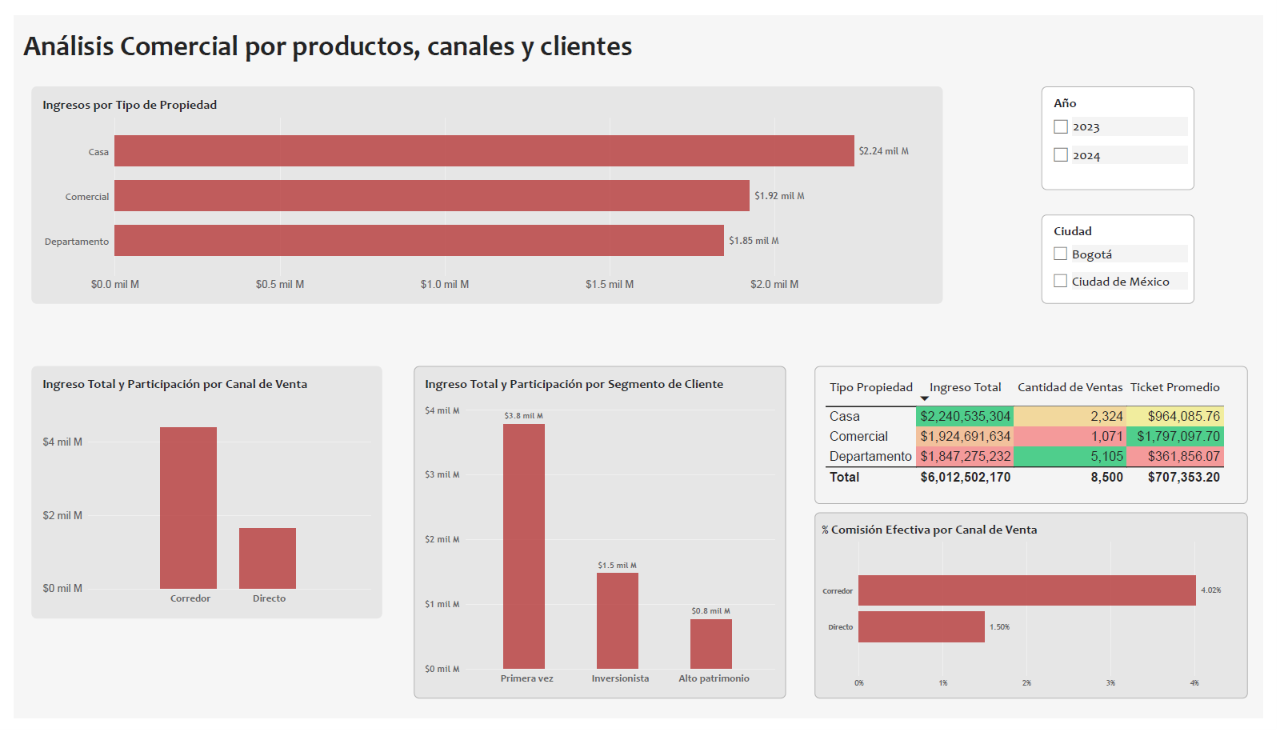

This screenshot's page, from the dashboard's own definition file:
{"tool":"powerbi","page":{"name":"Análisis Comercial","canvas":[1920,1080],"ordinal":1},"visuals":[{"type":"textbox","box":[14.5,19.9,968.2,88.7],"z":0},{"type":"clusteredBarChart","title":"Ingresos por Tipo de Propiedad","fields":{"Category":["dim_propiedades.tipo_propiedad"],"Y":["hecho_ventas_propiedades.Ingreso Total"]},"box":[27.1,108.6,1400.7,334.8],"z":1000},{"type":"slicer","fields":{"Values":["dim_fecha.Año"]},"box":[1579.8,108.6,235.3,159.3],"z":2000},{"type":"clusteredColumnChart","title":"Ingreso Total y Participación por Canal de Venta","fields":{"Category":["hecho_ventas_propiedades.canal_venta"],"Y":["hecho_ventas_propiedades.Ingreso Total"]},"box":[27.1,539.3,539.3,387.3],"z":3000},{"type":"clusteredColumnChart","title":"Ingreso Total y Participación por Segmento de Cliente","fields":{"Category":["dim_clientes.segmento_comprador"],"Y":["hecho_ventas_propiedades.Ingreso Total"]},"box":[615.3,539.3,571.9,510.3],"z":4000},{"type":"tableEx","fields":{"Values":["dim_propiedades.tipo_propiedad","hecho_ventas_propiedades.Ingreso Total","hecho_ventas_propiedades.Cantidad de Ventas","hecho_ventas_propiedades.Ticket Promedio"]},"box":[1230.6,539.3,666,211.7],"z":5000},{"type":"slicer","fields":{"Values":["hecho_ventas_propiedades.ciudad"]},"box":[1579.8,305.8,235.3,137.5],"z":6000},{"type":"clusteredBarChart","title":"% Comisión Efectiva por Canal de Venta","fields":{"Category":["hecho_ventas_propiedades.canal_venta"],"Y":["hecho_ventas_propiedades.% Comisión Efectiva"]},"box":[1230.6,763.7,666,285.9],"z":7000}]}

Visuals, with their boxes in screenshot pixels (x1, y1, x2, y2), scaled from the page's 1920x1080 canvas onto the 1277x730 screenshot:
textbox: {"left": 10, "top": 13, "right": 654, "bottom": 73}
"Ingresos por Tipo de Propiedad" clusteredBarChart: {"left": 18, "top": 73, "right": 950, "bottom": 300}
slicer - dim_fecha.Año: {"left": 1051, "top": 73, "right": 1207, "bottom": 181}
"Ingreso Total y Participación por Canal de Venta" clusteredColumnChart: {"left": 18, "top": 365, "right": 377, "bottom": 626}
"Ingreso Total y Participación por Segmento de Cliente" clusteredColumnChart: {"left": 409, "top": 365, "right": 790, "bottom": 709}
tableEx - dim_propiedades.tipo_propiedad x hecho_ventas_propiedades.Ingreso Total: {"left": 818, "top": 365, "right": 1261, "bottom": 508}
slicer - hecho_ventas_propiedades.ciudad: {"left": 1051, "top": 207, "right": 1207, "bottom": 300}
"% Comisión Efectiva por Canal de Venta" clusteredBarChart: {"left": 818, "top": 516, "right": 1261, "bottom": 709}
